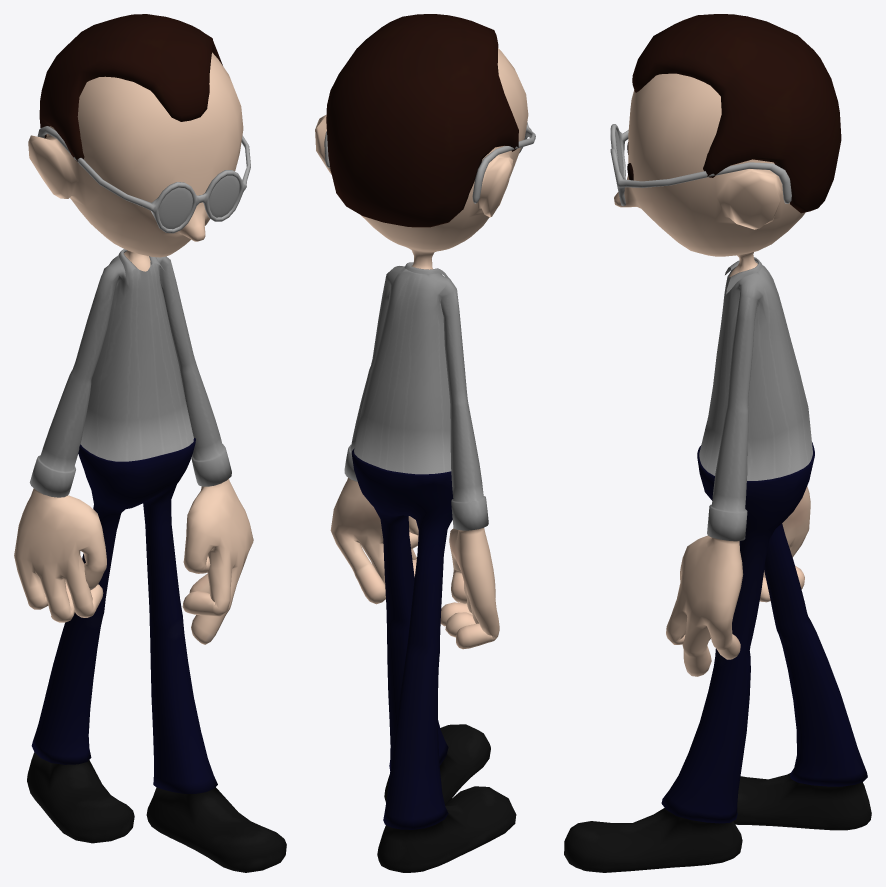
Rendered from Animation_Cartoon_Starter_000098.obj.
3 renders of one model, left to right at view 1: azimuth 30°, elevation 25°; view 2: azimuth 150°, elevation 25°; view 3: azimuth 270°, elevation 25°, orthographic. The views are drawn at different scales.
Parts seen in each view (by area): view 1: bm_09; view 2: bm_09; view 3: bm_09.
Boxes of the visible parts, x1,y1,x2,y2 form: bm_09: (14,14,286,872); bm_09: (315,14,535,872); bm_09: (564,14,871,872).
Size of the model in its own units: 0.3932 by 1.51 by 0.5143.
Materials: 3 (1 with a texture image).
